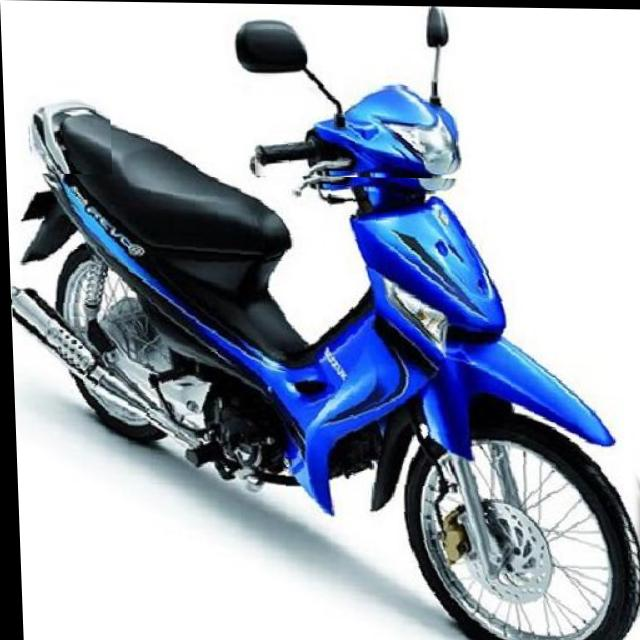All: (3, 69, 640, 640)
Head: (249, 83, 461, 177)
Tail: (27, 96, 111, 175)
